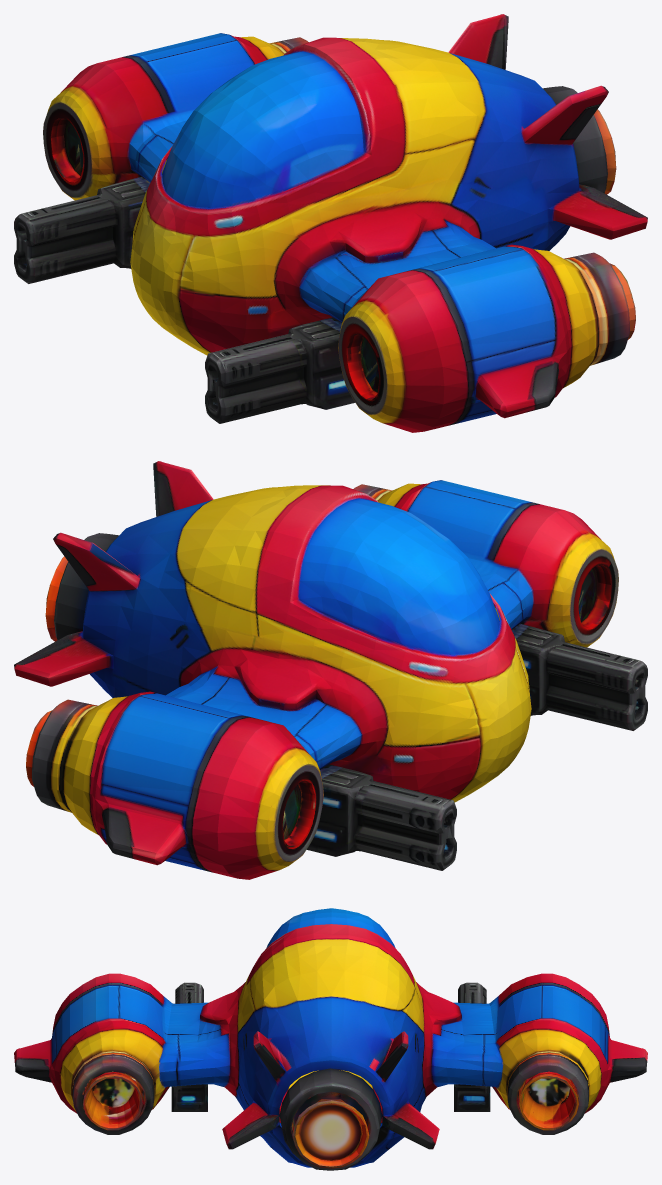
File: Meshy_AI_Rainbow_Starfighter_0703084727_texture.glb
3 renders of one model, top to bottom at view 1: azimuth 30°, elevation 25°; view 2: azimuth 150°, elevation 25°; view 3: azimuth 270°, elevation 25°, orthographic. The views are drawn at different scales.
Bounding box in the file's own units: 1.22 × 0.6928 × 1.91.
1 material, 1 textured.
